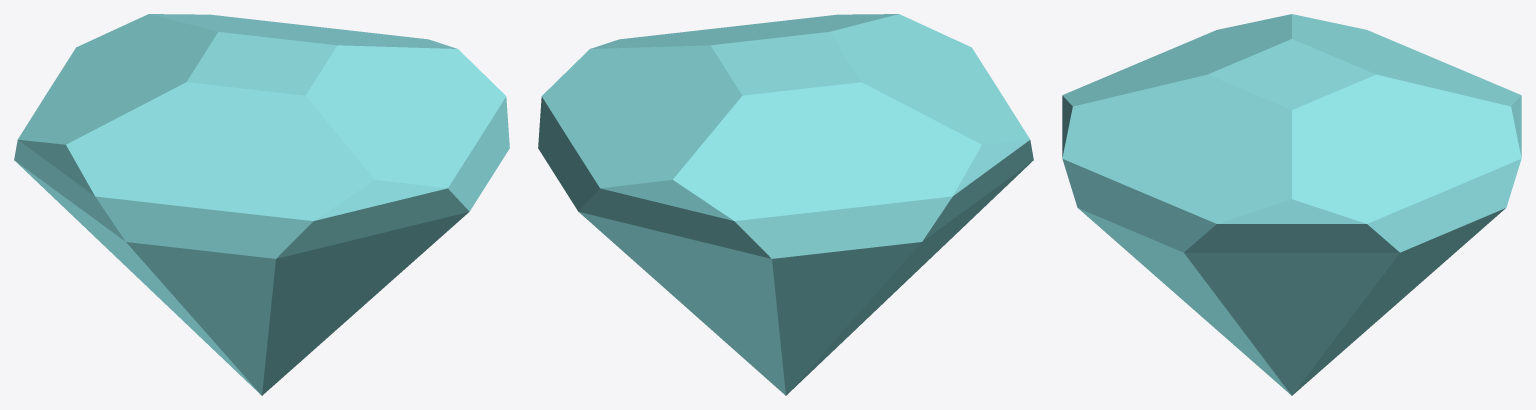
File: Diamond.fbx
3 renders of one model, left to right at view 1: azimuth 30°, elevation 25°; view 2: azimuth 150°, elevation 25°; view 3: azimuth 270°, elevation 25°, orthographic. The views are drawn at different scales.
Parts seen in each view (by area): view 1: Cylinder.002; view 2: Cylinder.002; view 3: Cylinder.002.
Part boxes in pixels (box(x1,y1,x2,y2)): Cylinder.002: box(14, 14, 509, 395); Cylinder.002: box(538, 14, 1033, 395); Cylinder.002: box(1062, 14, 1521, 395).
Size of the model in its own units: 1.29 by 1 by 1.29.
